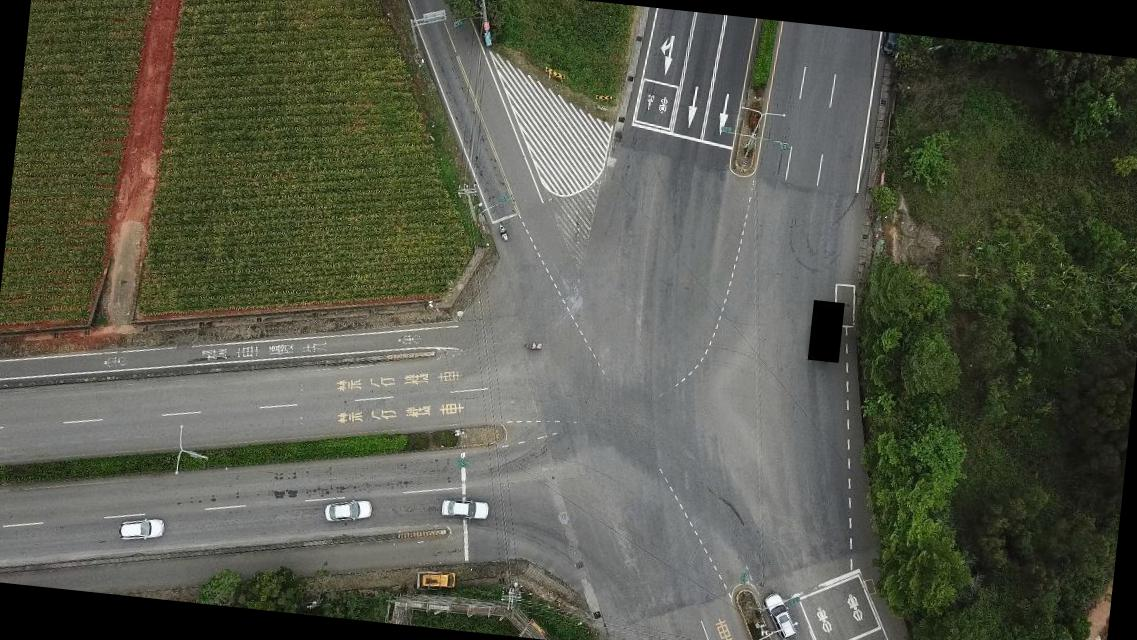vehicle: (761, 591, 799, 639), (322, 494, 373, 526), (118, 515, 165, 544), (438, 498, 488, 522), (417, 566, 457, 590), (879, 32, 900, 59)
